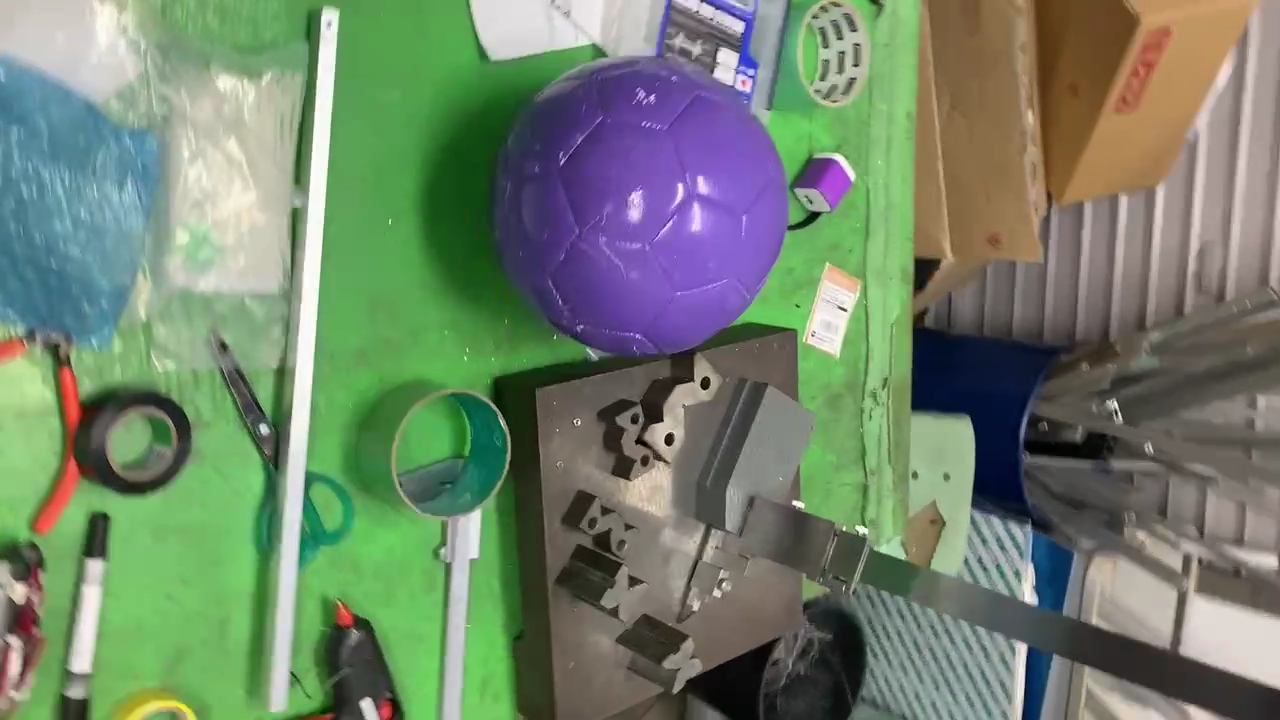purple: (498, 57, 785, 358)
